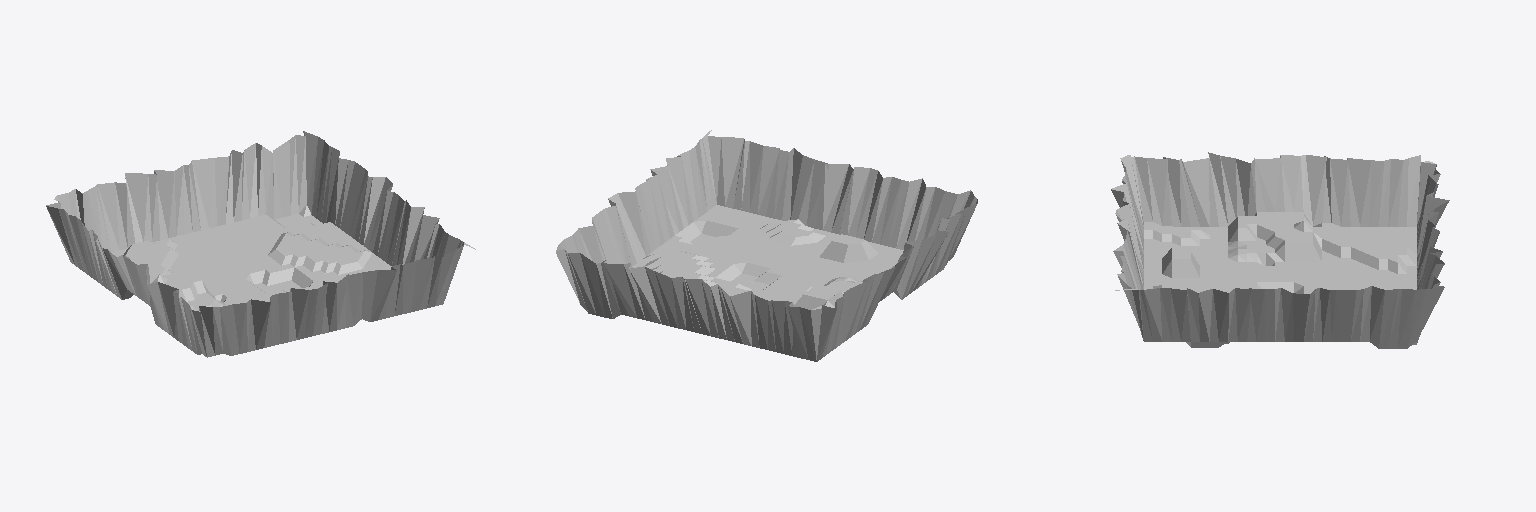
Rendered from mapd.obj.
3 views of the same model, side by side, from view 1: azimuth 30°, elevation 25°; view 2: azimuth 150°, elevation 25°; view 3: azimuth 270°, elevation 25° (orthographic).
Visible parts, largest first — view 1: Plane_Plane.001; view 2: Plane_Plane.001; view 3: Plane_Plane.001.
Boxes of the visible parts, x1,y1,x2,y2 form: Plane_Plane.001: [46, 131, 475, 357]; Plane_Plane.001: [556, 130, 977, 361]; Plane_Plane.001: [1111, 152, 1449, 348].
Bounding box in the file's own units: 230 × 56.55 × 233.